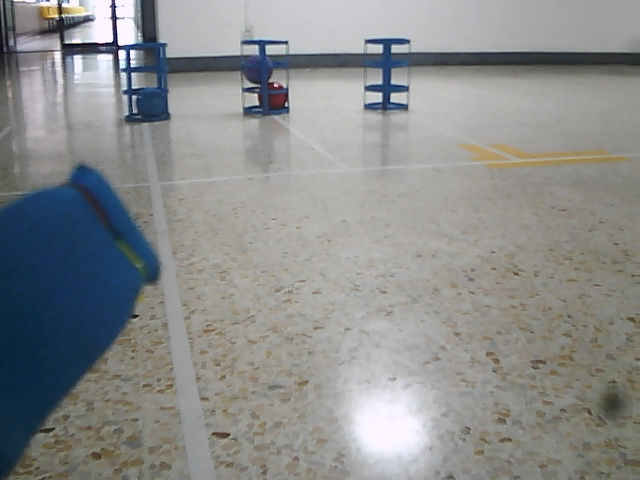Blue ball: (135, 85, 166, 118)
Cyro: (238, 36, 294, 118), (117, 41, 173, 122), (360, 34, 413, 113)
Purple ball: (241, 53, 274, 84)
Red ball: (257, 80, 287, 111)
